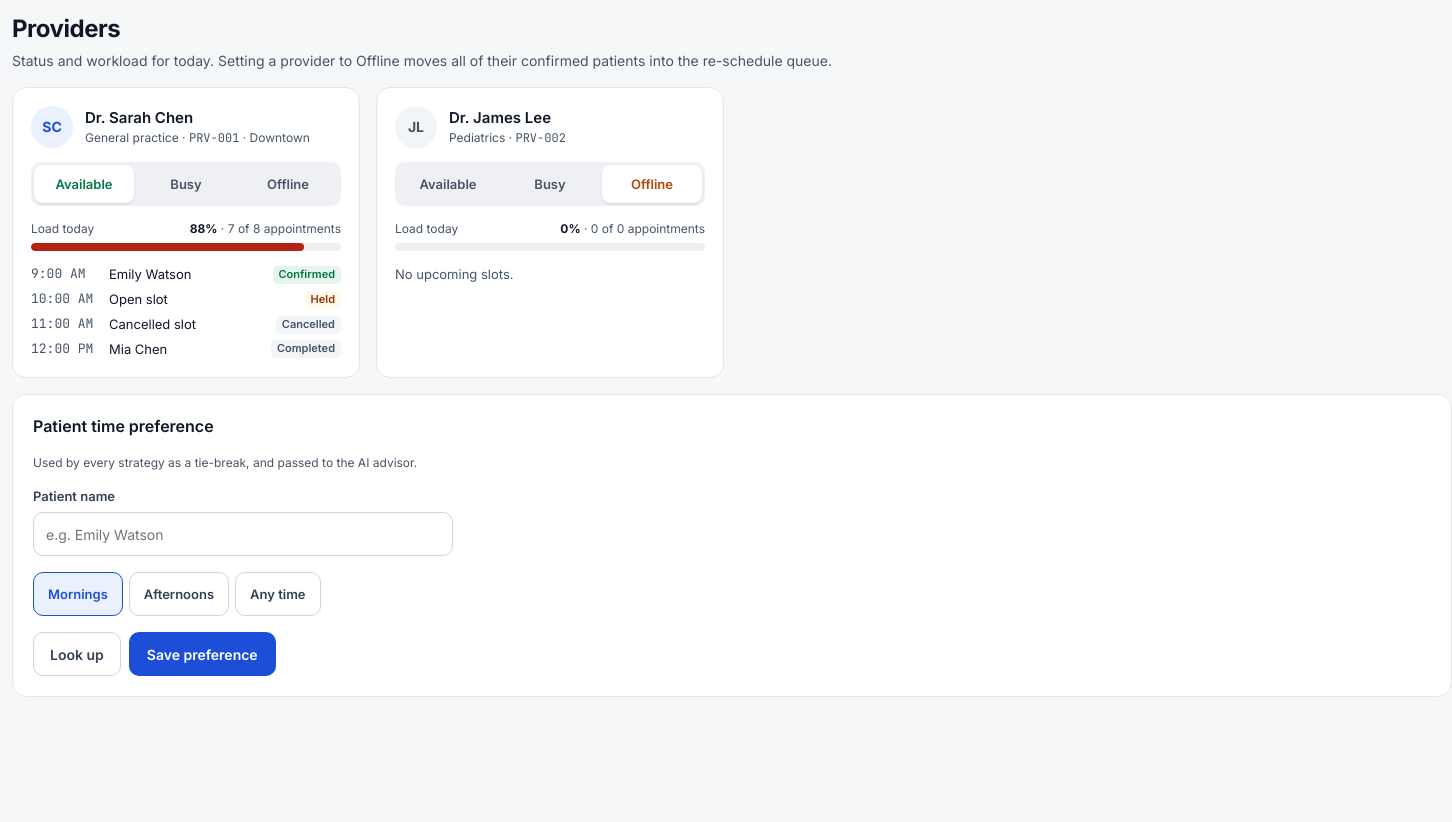
Test: PreferenceEditor › saves the chosen window and toasts
The width and height of the screenshot is (1452, 822).
Type "Emily Watson" into the field labelled "Patient name" at (243, 534), box [33,512,453,556]
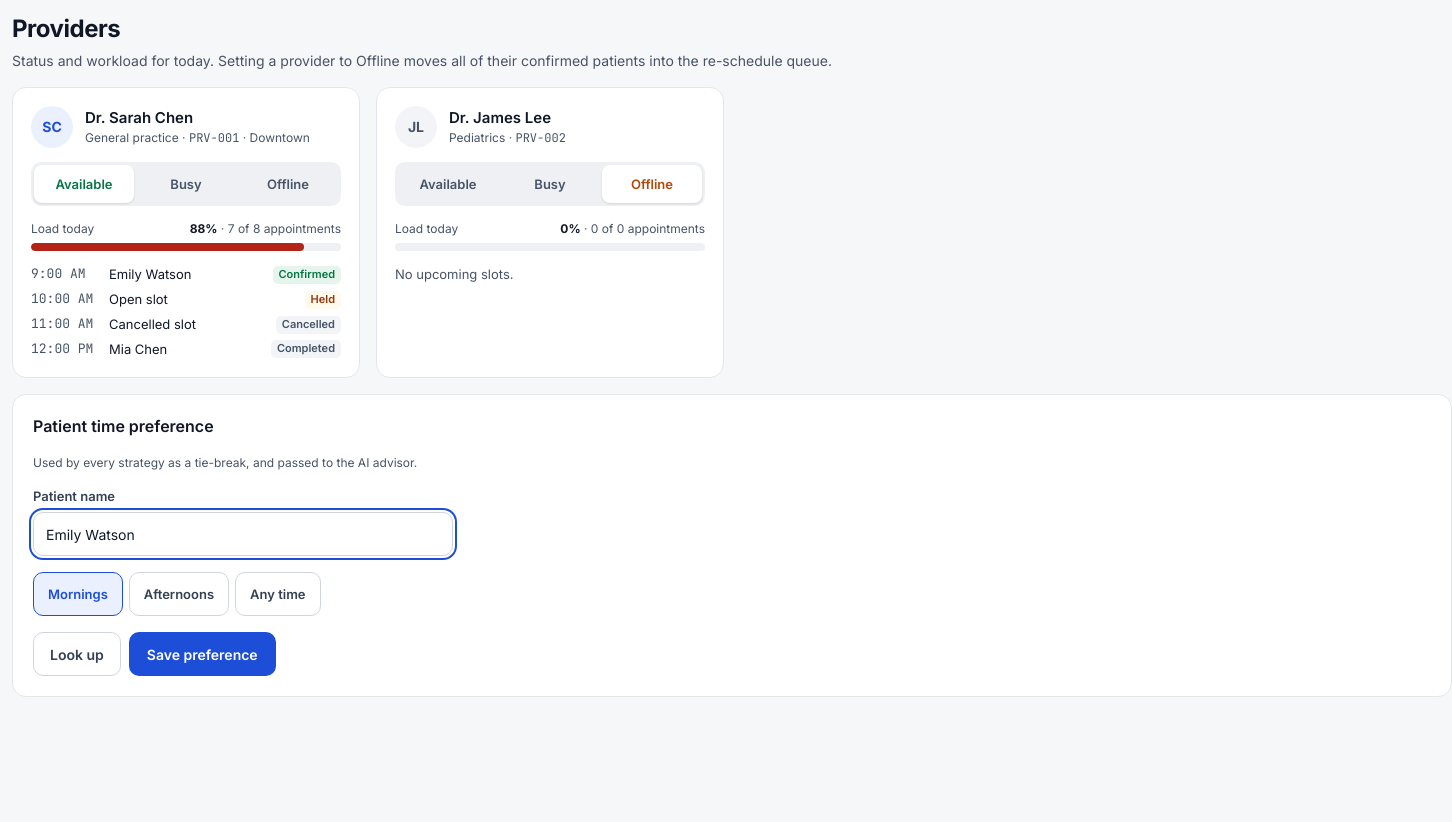
Click the button "Any time" at (278, 594), box [235,572,320,616]
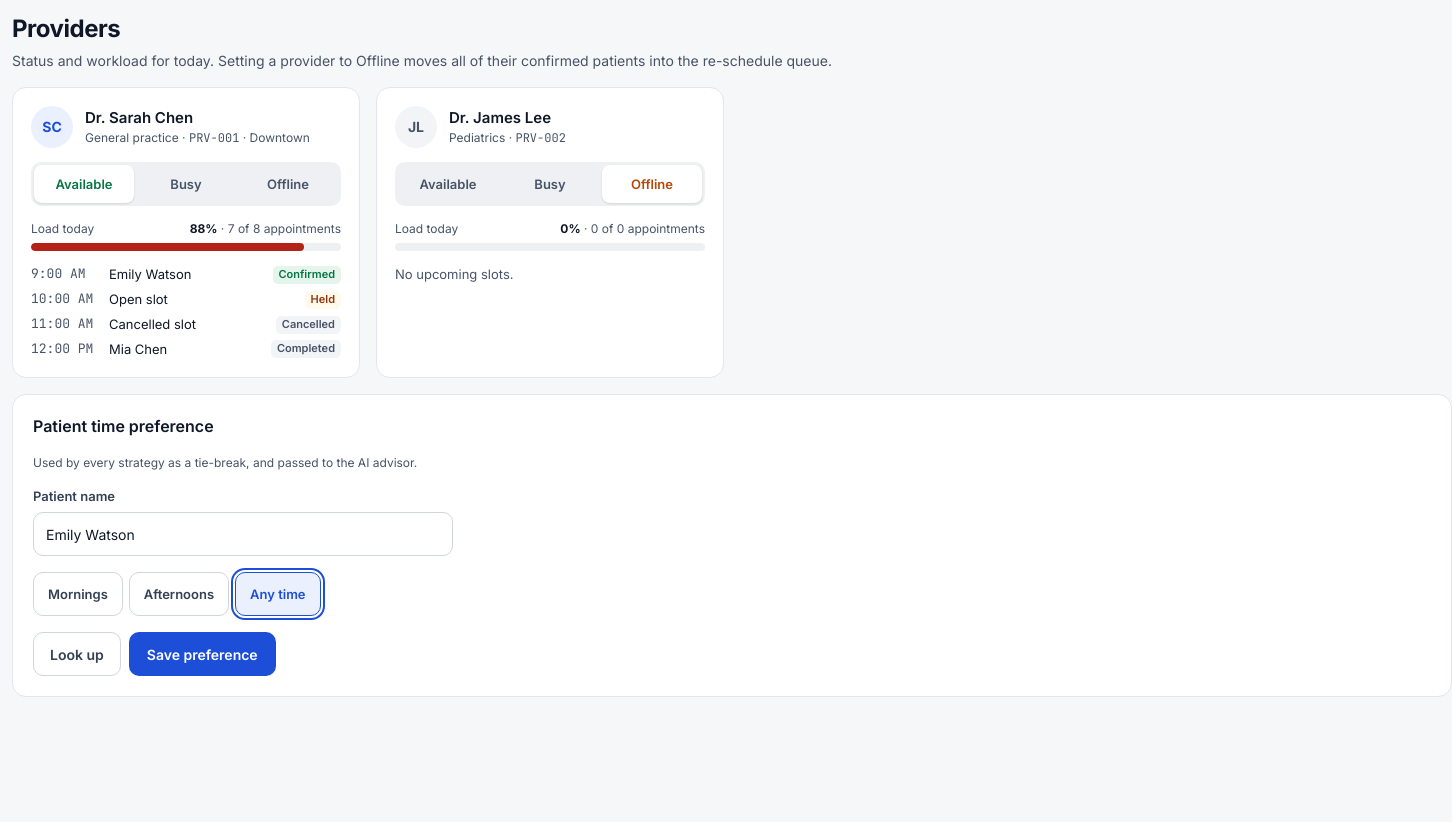
Click the button "Save preference" at (202, 654), box [129,632,276,676]
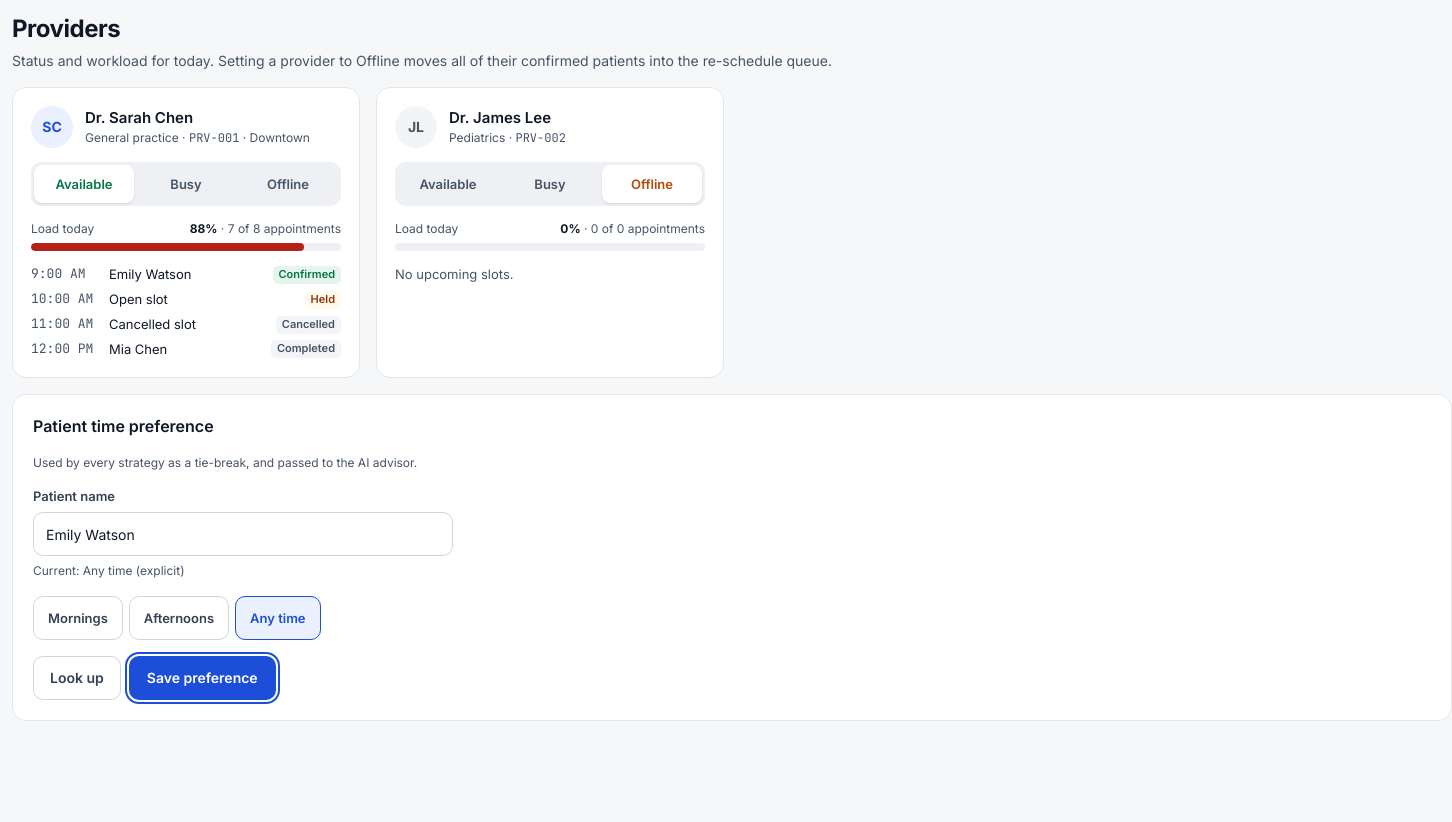
Now the text "Current: Any time (explicit)" is shown, box [33,563,184,578]
